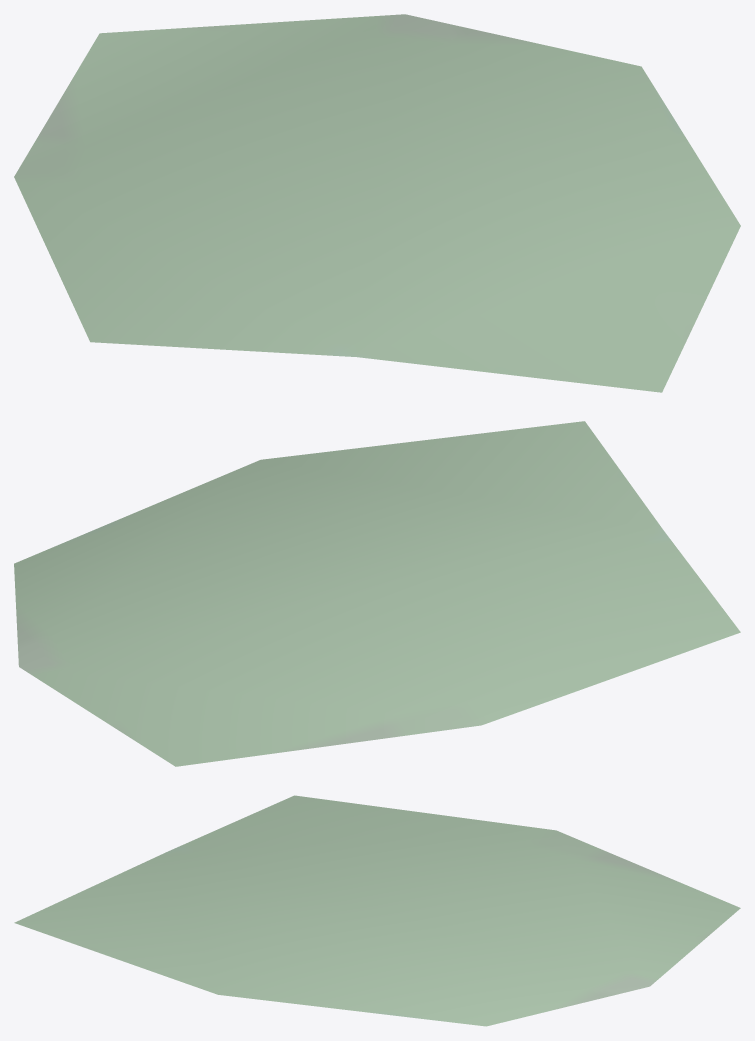
Rendered from TROLLHOLE02_HOLECAP152.fbx.
3 views of the same model, one above another, from view 1: azimuth 30°, elevation 25°; view 2: azimuth 150°, elevation 25°; view 3: azimuth 270°, elevation 25° (orthographic). The views are drawn at different scales.
Parts seen in each view (by area): view 1: TROLLHOLE02_HOLECAP152; view 2: TROLLHOLE02_HOLECAP152; view 3: TROLLHOLE02_HOLECAP152.
Boxes of the visible parts, x1=… form: TROLLHOLE02_HOLECAP152: x1=14, y1=14, x2=740, y2=392; TROLLHOLE02_HOLECAP152: x1=14, y1=421, x2=740, y2=766; TROLLHOLE02_HOLECAP152: x1=14, y1=795, x2=740, y2=1026.
Size of the model in its own units: 40602 by 607 by 52497.
Materials: 1 (1 with a texture image).
